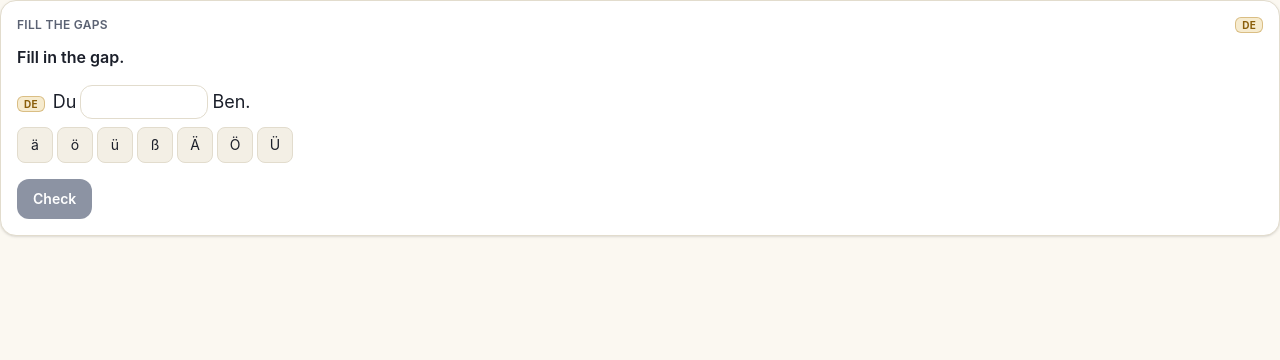
Scenario: ExercisePlayer — gap › accepts the right word
In the field named "Gap 1": (144,102) [80,85,208,119], type "bist"
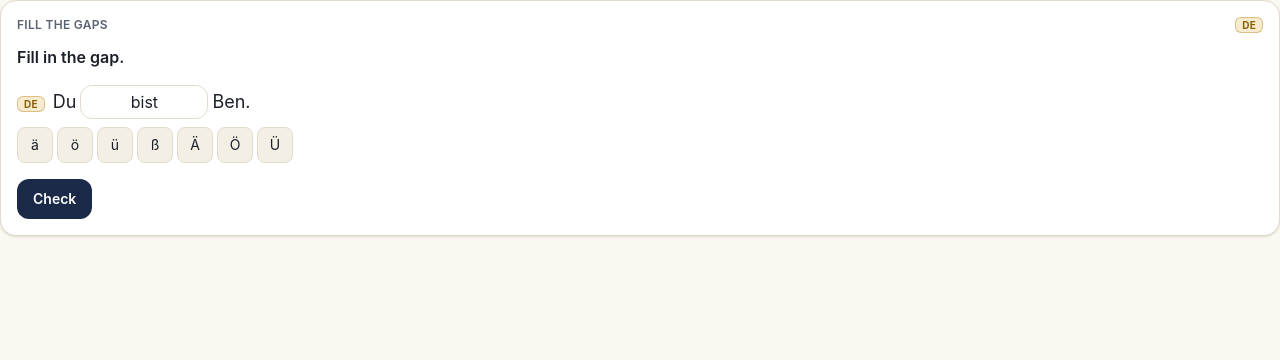
Click the button "Check": (55,199) [17,179,92,219]
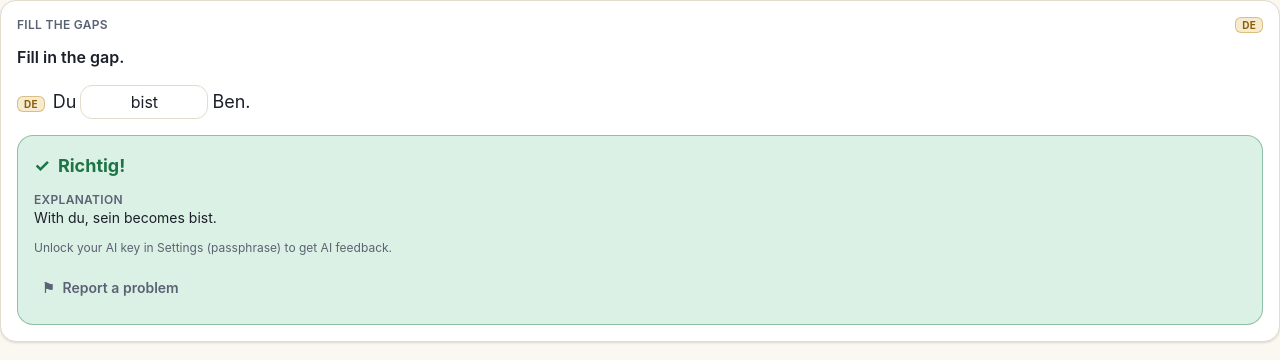
Expected: the text "Richtig!" is shown, [58,152,125,180]
